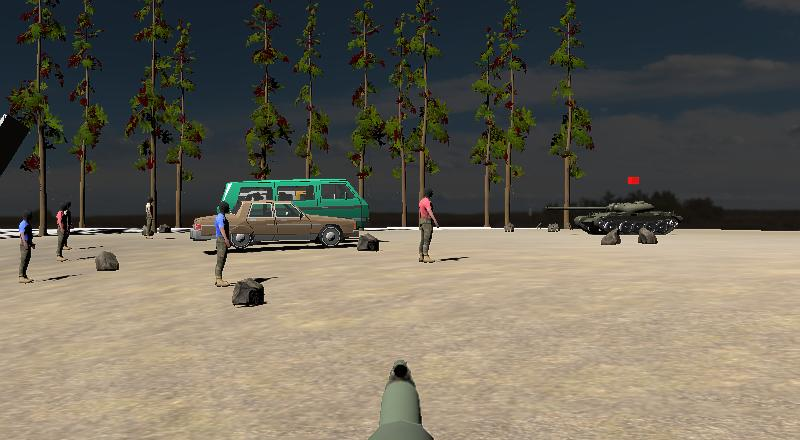Human: (418, 186, 439, 263), (213, 202, 231, 287), (17, 210, 36, 283), (56, 202, 69, 261)
Tank: (544, 200, 684, 236)
car: (222, 180, 372, 234), (214, 201, 356, 247), (258, 178, 369, 232)
